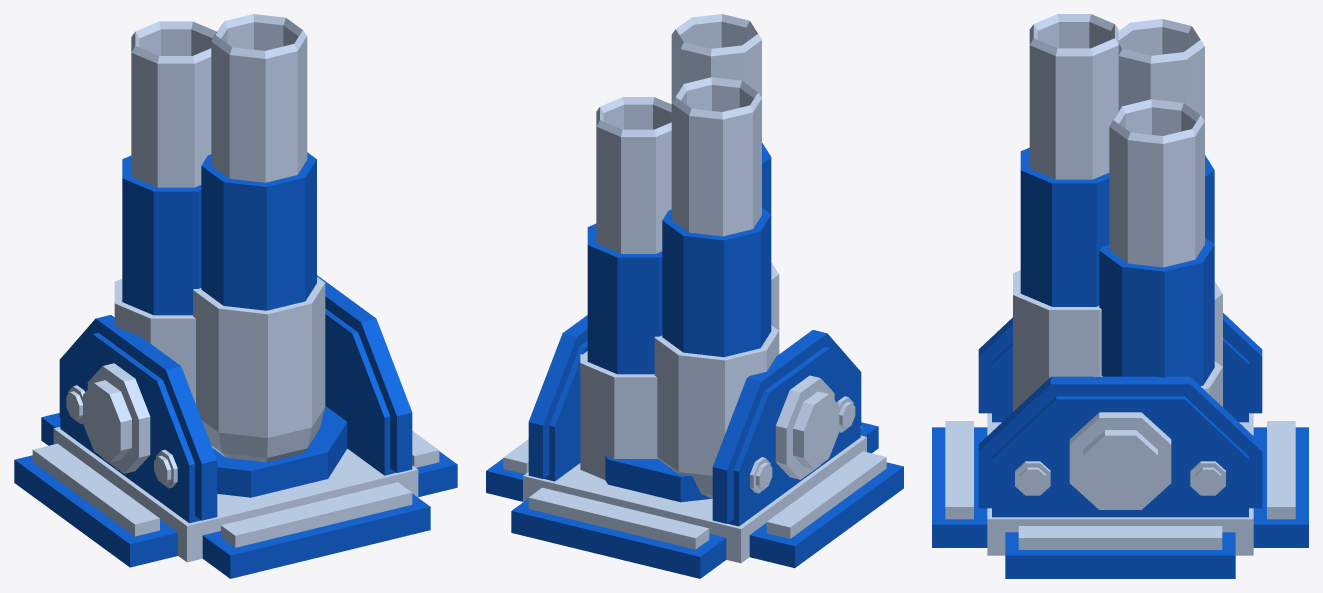
The model's file is Mortar_AA_2B.fbx.
3 renders of one model, left to right at view 1: azimuth 30°, elevation 25°; view 2: azimuth 150°, elevation 25°; view 3: azimuth 270°, elevation 25°, orthographic. The views are drawn at different scales.
Visible parts, largest first — view 1: AntiAirMortarCannonB, AntiAirMortarBaseB; view 2: AntiAirMortarCannonB, AntiAirMortarBaseB; view 3: AntiAirMortarBaseB, AntiAirMortarCannonB.
Part boxes in pixels (bbox=[...]): AntiAirMortarCannonB: bbox=[114, 14, 325, 462]; AntiAirMortarBaseB: bbox=[14, 275, 457, 578]; AntiAirMortarCannonB: bbox=[580, 14, 779, 498]; AntiAirMortarBaseB: bbox=[486, 315, 903, 578]; AntiAirMortarBaseB: bbox=[932, 313, 1308, 578]; AntiAirMortarCannonB: bbox=[1013, 14, 1222, 411].
Size of the model in its own units: 28.31 by 40.78 by 28.31.
Materials: 1 (1 with a texture image).
